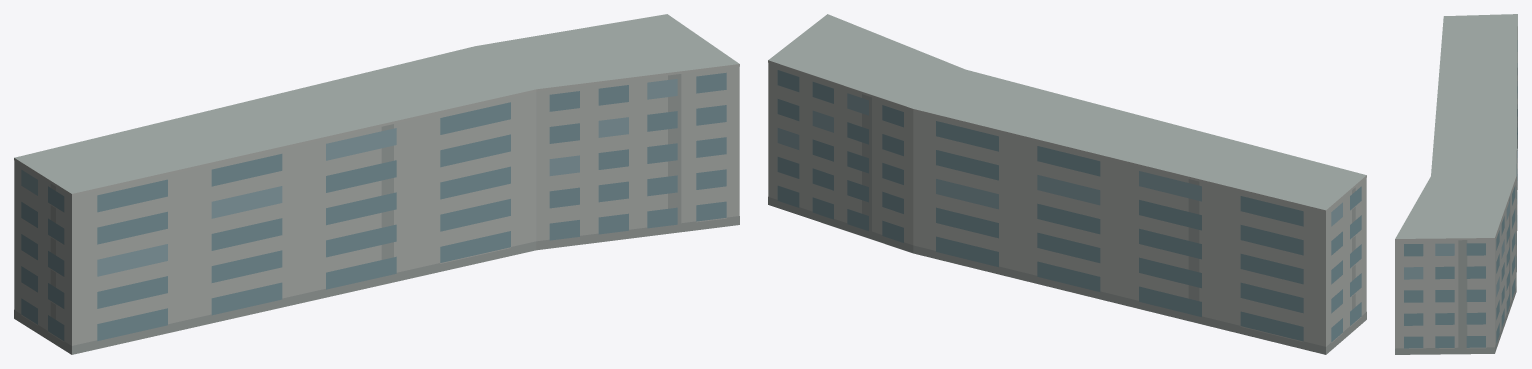
Rendered from residential-0426e278-8425-44e0-b5c2-0bbbd75579bb.glb.
3 renders of one model, left to right at view 1: azimuth 30°, elevation 25°; view 2: azimuth 150°, elevation 25°; view 3: azimuth 270°, elevation 25°, orthographic. The views are drawn at different scales.
Parts seen in each view (by area): view 1: residential-0426e278-8425-44e0-b5c2-0bbbd75579bb.tmp; view 2: residential-0426e278-8425-44e0-b5c2-0bbbd75579bb.tmp; view 3: residential-0426e278-8425-44e0-b5c2-0bbbd75579bb.tmp.
Boxes of the visible parts, x1,y1,x2,y2 form: residential-0426e278-8425-44e0-b5c2-0bbbd75579bb.tmp: [14, 14, 739, 354]; residential-0426e278-8425-44e0-b5c2-0bbbd75579bb.tmp: [768, 14, 1366, 354]; residential-0426e278-8425-44e0-b5c2-0bbbd75579bb.tmp: [1395, 14, 1517, 354].
Size of the model in its own units: 63.5 by 15.25 by 14.66.
